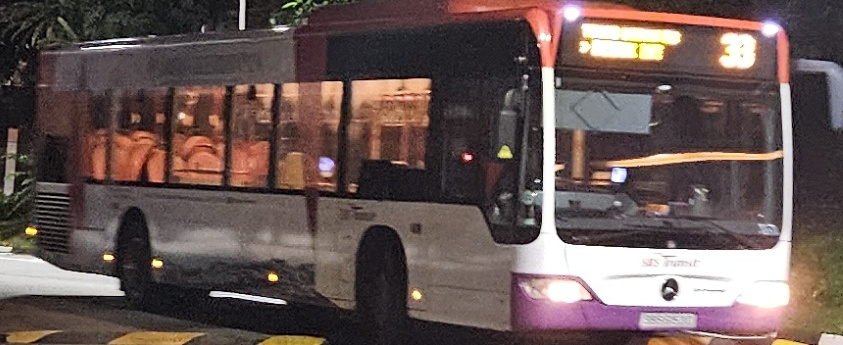bus: (712, 28, 764, 76)
